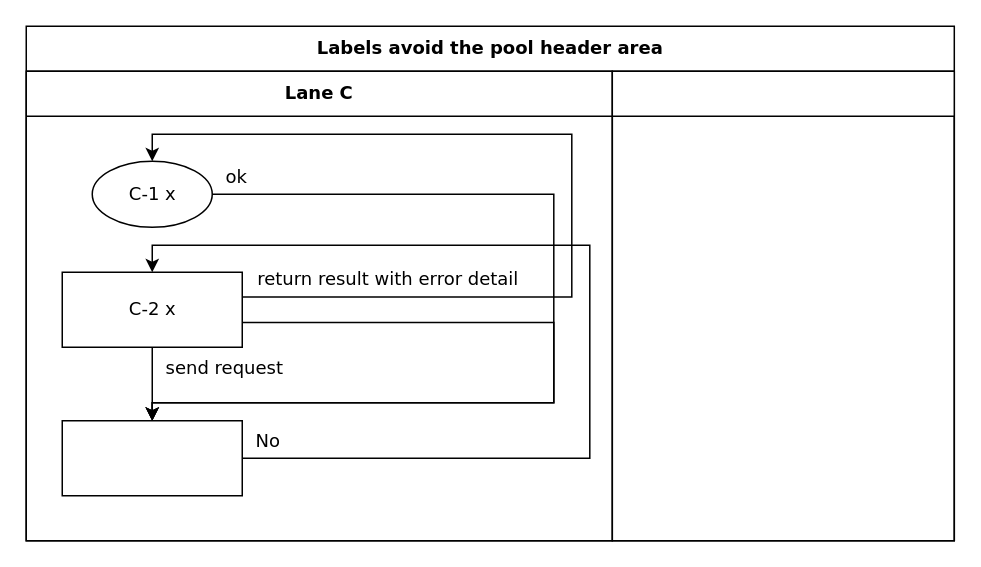
The diagram is 981 pixels wide and 567 high, and some of its shapes have lost their labels. The centre of each missing label's shape, as x and y in pixels:
C-3 x: [151,457]
Long business processing dept D: [782,305]
